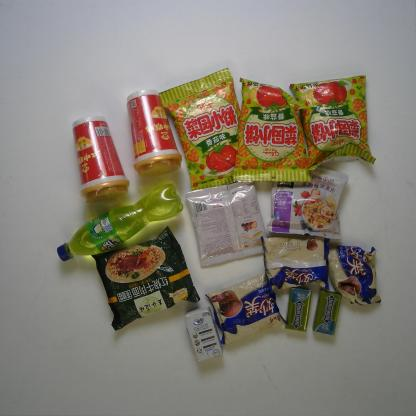Dessert: (203, 272, 288, 350), (256, 232, 334, 295), (322, 245, 388, 309)
Drink: (56, 183, 186, 270)
Gum: (310, 285, 345, 338), (281, 284, 314, 333)
Instant Drink: (184, 175, 271, 268), (266, 164, 352, 241), (66, 114, 132, 202), (122, 88, 184, 174)
Instant Noodles: (90, 226, 202, 333)
Milk: (182, 303, 225, 365)
Puffed Food: (153, 65, 243, 189), (230, 75, 313, 187), (288, 70, 380, 170)
